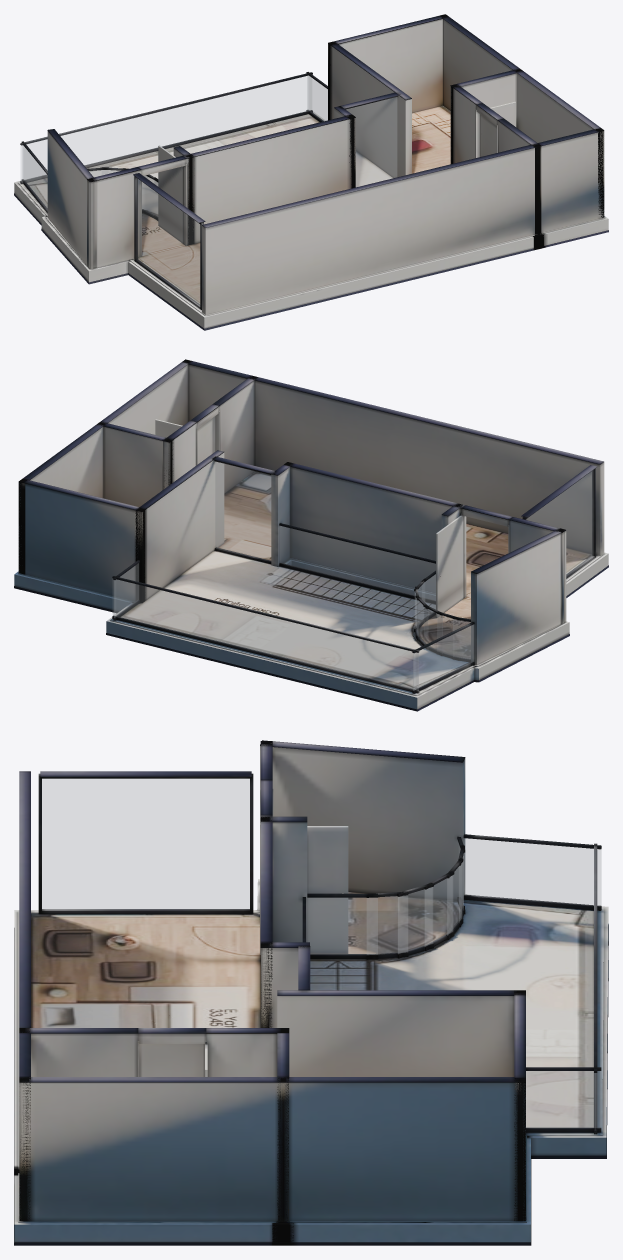
The picture shows the model from 3 angles, top to bottom: view 1: azimuth 30°, elevation 25°; view 2: azimuth 150°, elevation 25°; view 3: azimuth 270°, elevation 25°; orthographic projection. The views are drawn at different scales.
Parts seen in each view (by area): view 1: plan, railg0_m, glass0_m, glass1_m, railg10_m, railg2_m; view 2: plan, railg0_m, railg1_m, glass1_m, glass0_m, railg10_m, railg2_m, railg7_m, railg8_m, railg9_m; view 3: plan, glass0_m, railg10_m, railg2_m, railg3_m, railg4_m, railg5_m, railg6_m, railg7_m.
Part boxes in pixels (x1,y1,x2,y2): plan: [14, 14, 608, 330]; railg0_m: [21, 76, 311, 180]; glass0_m: [137, 178, 199, 305]; glass1_m: [346, 97, 396, 186]; railg10_m: [23, 146, 47, 208]; railg2_m: [308, 76, 327, 120]; plan: [14, 359, 608, 711]; railg0_m: [113, 579, 418, 690]; railg1_m: [280, 526, 435, 600]; glass1_m: [215, 462, 270, 560]; glass0_m: [526, 470, 593, 574]; railg10_m: [413, 625, 473, 690]; railg2_m: [114, 563, 138, 617]; railg7_m: [424, 607, 442, 652]; railg8_m: [437, 614, 459, 657]; railg9_m: [453, 619, 470, 658]; plan: [14, 740, 608, 1245]; glass0_m: [42, 779, 249, 909]; railg10_m: [464, 838, 601, 906]; railg2_m: [526, 1071, 600, 1127]; railg3_m: [307, 898, 377, 954]; railg4_m: [367, 895, 407, 954]; railg5_m: [398, 887, 432, 953]; railg6_m: [424, 875, 452, 946]; railg7_m: [447, 863, 461, 935].
Bounding box in the file's own units: 12.03 × 2.62 × 8.76.
Materials: 2 (1 with a texture image).
